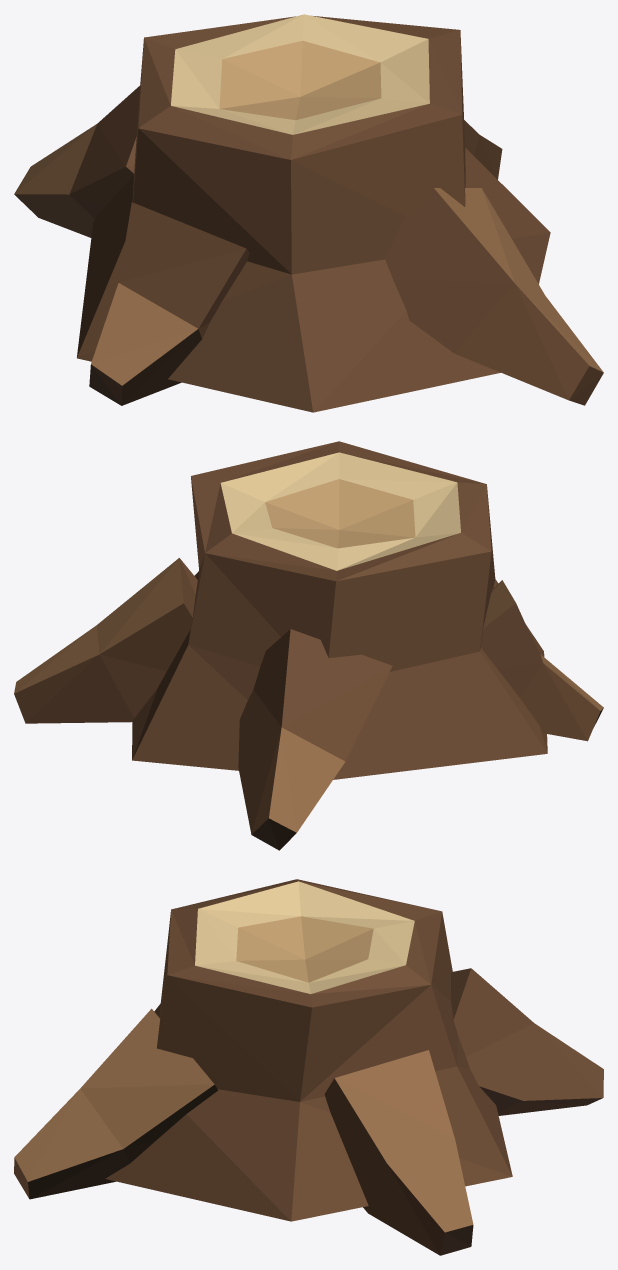
The model's file is SM_Stump_B.fbx.
3 views of the same model, one above another, from view 1: azimuth 30°, elevation 25°; view 2: azimuth 150°, elevation 25°; view 3: azimuth 270°, elevation 25° (orthographic). The views are drawn at different scales.
Visible parts, largest first — view 1: SM_Stump_B; view 2: SM_Stump_B; view 3: SM_Stump_B.
Part boxes in pixels (x1,y1,x2,y2): SM_Stump_B: (14, 14, 603, 412); SM_Stump_B: (14, 441, 603, 850); SM_Stump_B: (14, 879, 603, 1255).
Size of the model in its own units: 0.8294 by 0.3657 by 0.9257.
